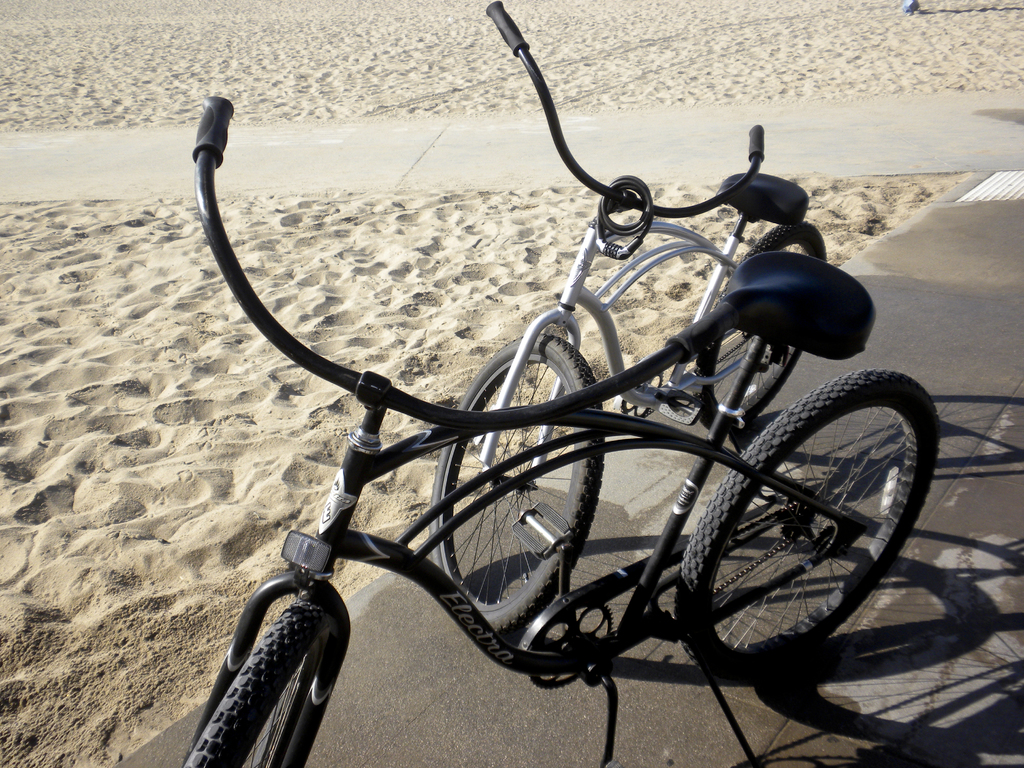Bike: (152, 158, 851, 768)
